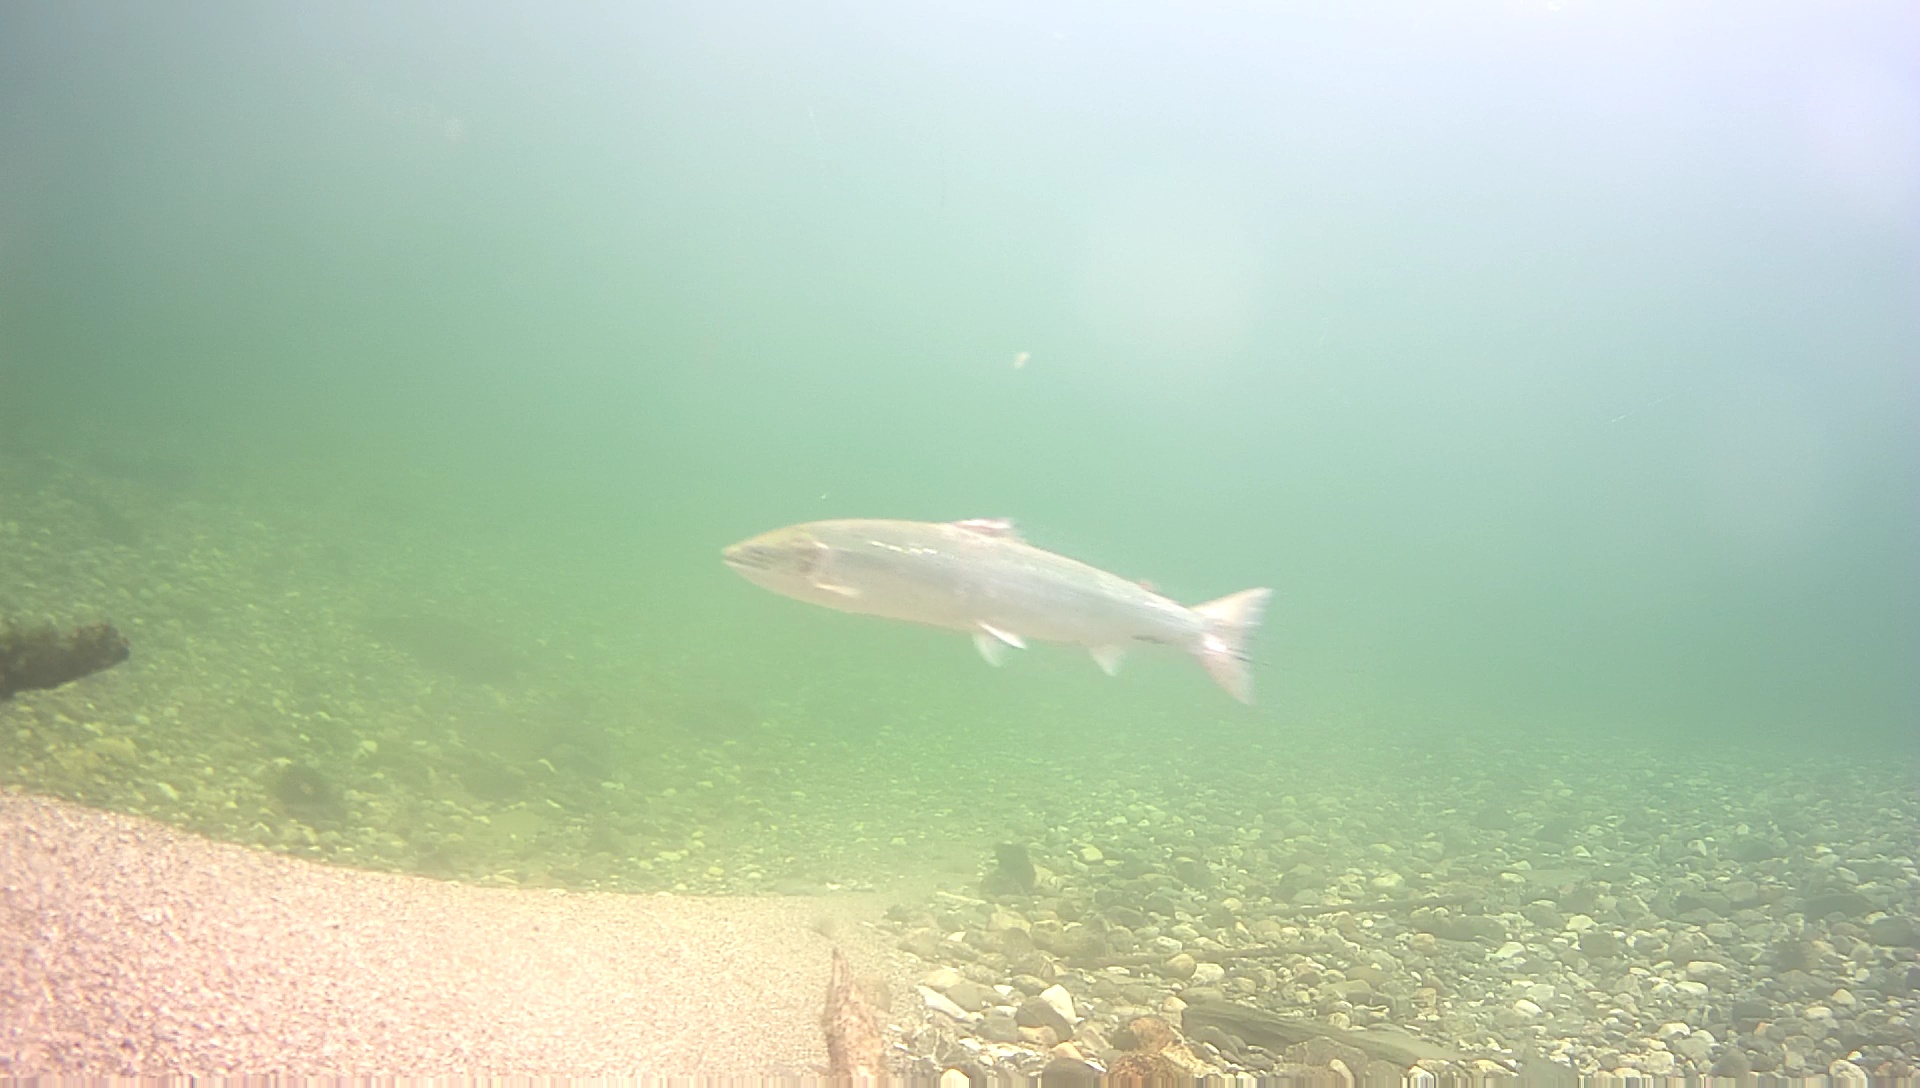salmon: (717, 516, 1276, 713)
